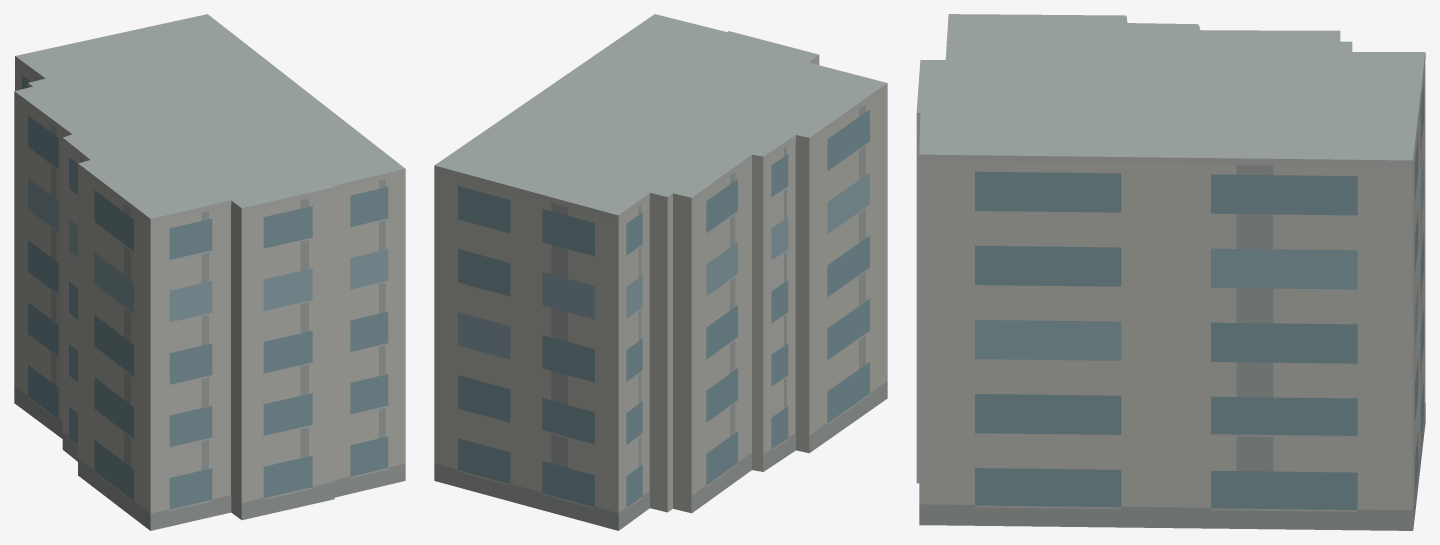
Rendered from survey-upis-32547148.glb.
The picture shows the model from 3 angles, left to right: view 1: azimuth 30°, elevation 25°; view 2: azimuth 150°, elevation 25°; view 3: azimuth 270°, elevation 25°; orthographic projection. The views are drawn at different scales.
Parts seen in each view (by area): view 1: survey-upis-32547148.tmp; view 2: survey-upis-32547148.tmp; view 3: survey-upis-32547148.tmp.
Boxes of the visible parts, left/top/right/bottom form: survey-upis-32547148.tmp: left=14, top=14, right=405, bottom=530; survey-upis-32547148.tmp: left=434, top=14, right=887, bottom=530; survey-upis-32547148.tmp: left=916, top=14, right=1425, bottom=530.
Size of the model in its own units: 11.37 by 13.4 by 16.69.
